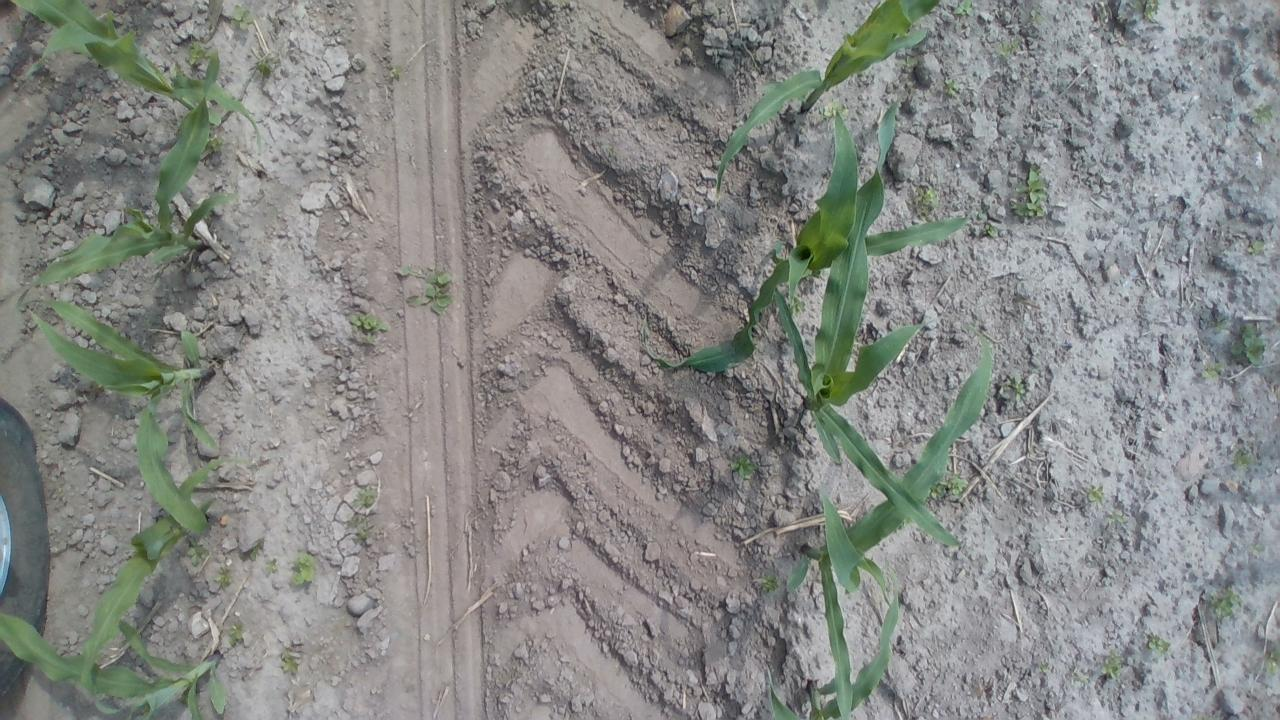Maize: (770, 96, 964, 548), (641, 109, 964, 378), (786, 324, 996, 717), (8, 0, 264, 238), (18, 296, 220, 541), (15, 96, 236, 310), (76, 458, 239, 718), (718, 0, 942, 189), (0, 607, 230, 720), (767, 582, 899, 720)
Weeds: (397, 262, 458, 318), (1006, 159, 1050, 218), (1229, 322, 1268, 369), (349, 312, 392, 346), (286, 550, 319, 586), (1207, 588, 1244, 620), (910, 184, 944, 216), (930, 472, 969, 499), (226, 0, 258, 31), (816, 98, 848, 129), (182, 537, 208, 567), (730, 454, 760, 480), (1002, 374, 1027, 402), (184, 40, 210, 66), (256, 54, 280, 82), (351, 484, 378, 507), (1248, 102, 1274, 125), (1132, 0, 1160, 21), (1102, 648, 1120, 680), (280, 648, 301, 673), (998, 37, 1025, 56), (1148, 633, 1170, 656), (1200, 362, 1228, 380), (352, 516, 370, 543), (1263, 646, 1280, 674), (880, 558, 899, 583), (214, 566, 232, 592), (1232, 444, 1254, 465), (789, 292, 809, 315), (224, 624, 244, 646), (760, 573, 781, 592), (208, 132, 225, 154), (952, 0, 972, 17), (1028, 10, 1044, 30), (1086, 486, 1104, 503), (1210, 314, 1229, 330), (944, 77, 960, 96), (1247, 240, 1264, 256), (899, 54, 919, 67), (1111, 510, 1128, 525), (982, 224, 999, 239), (1072, 670, 1090, 684), (388, 62, 401, 80), (970, 208, 986, 222), (264, 558, 278, 574), (905, 519, 918, 530), (1039, 660, 1050, 673), (15, 21, 26, 33), (1249, 544, 1265, 552), (249, 546, 257, 560), (88, 158, 98, 169), (56, 487, 66, 497), (40, 58, 50, 64), (333, 26, 341, 33)
